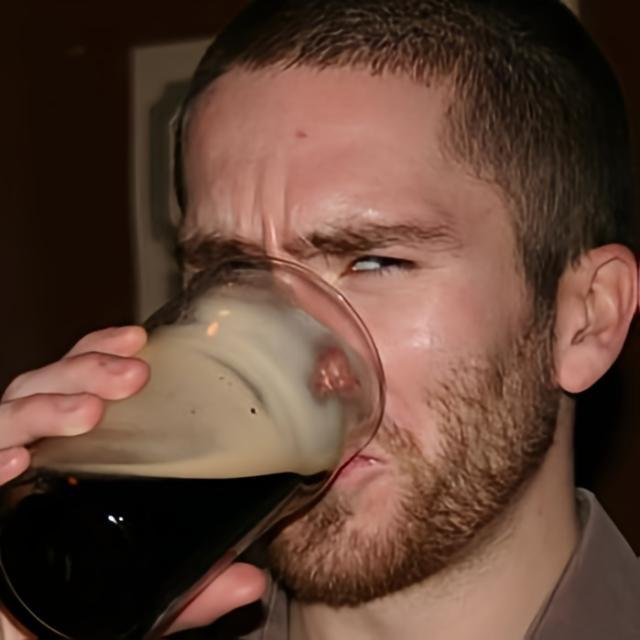disgust: (170, 61, 554, 604)
